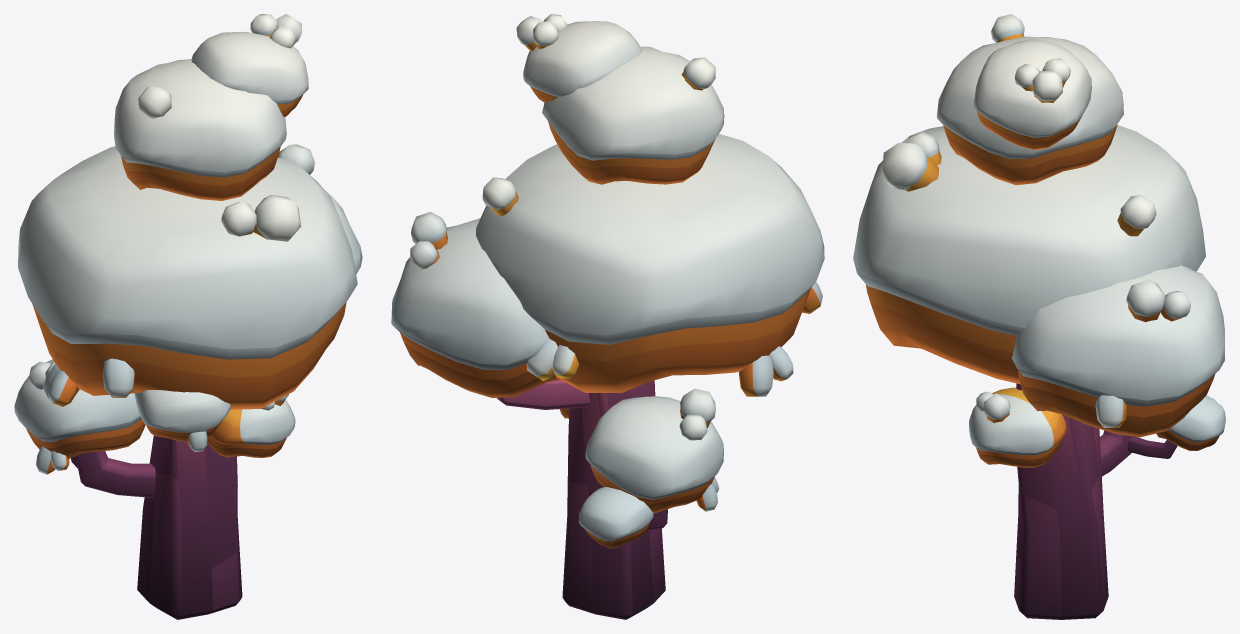
Rendered from grassland_tree_col2_8_snow.fbx.
3 views of the same model, side by side, from view 1: azimuth 30°, elevation 25°; view 2: azimuth 150°, elevation 25°; view 3: azimuth 270°, elevation 25° (orthographic). The views are drawn at different scales.
Visible parts, largest first — view 1: grassland_tree_col2_8_snow; view 2: grassland_tree_col2_8_snow; view 3: grassland_tree_col2_8_snow.
Part boxes in pixels (x1,y1,x2,y2): grassland_tree_col2_8_snow: [14, 14, 362, 619]; grassland_tree_col2_8_snow: [391, 14, 824, 619]; grassland_tree_col2_8_snow: [853, 14, 1225, 619].
Bounding box in the file's own units: 961 × 1490 × 868.
1 material, 1 textured.
